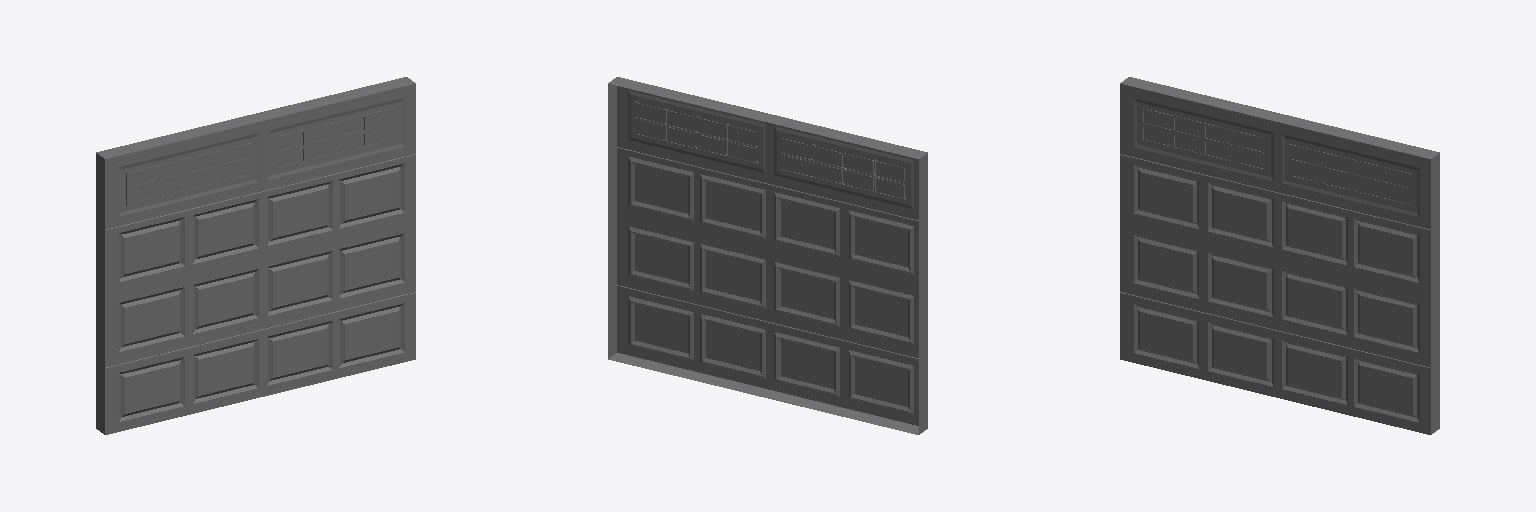
Rendered from Standard_Style_OBJ.obj.
3 views of the same model, side by side, from view 1: azimuth 30°, elevation 25°; view 2: azimuth 150°, elevation 25°; view 3: azimuth 330°, elevation 25° (orthographic).
Visible parts, largest first — view 1: Door.001, Windows.001; view 2: Door.001, Windows.001; view 3: Door.001, Windows.001.
Part boxes in pixels (x1,y1,x2,y2): Door.001: (96, 77, 415, 434); Windows.001: (129, 110, 394, 203); Door.001: (608, 77, 927, 434); Windows.001: (638, 103, 903, 196); Door.001: (1120, 77, 1439, 434); Windows.001: (1144, 111, 1409, 203).
Size of the model in its own units: 2.51 by 2.13 by 0.1318.